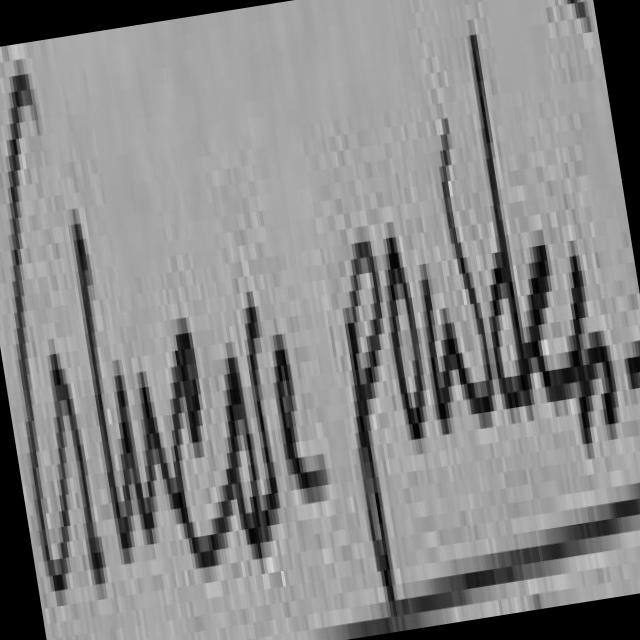G: (9, 74, 105, 591)
S: (247, 306, 279, 534)
c: (173, 333, 221, 568)
d: (474, 34, 534, 408)
e: (277, 334, 327, 503), (533, 245, 571, 402)
l: (75, 224, 134, 557)
o: (228, 358, 265, 559), (391, 237, 426, 439)
p: (349, 241, 399, 616)
r: (574, 256, 620, 458)
u: (113, 366, 171, 548)
w: (425, 118, 497, 434)
